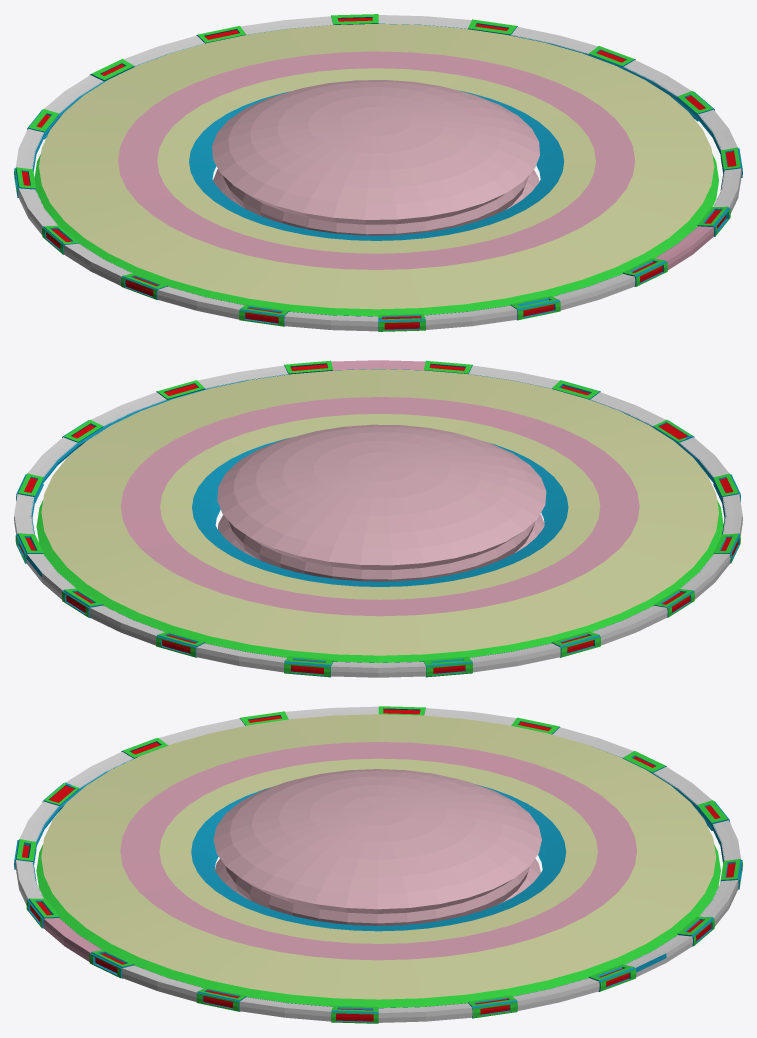
The model's file is ufo 2.dae.
3 renders of one model, top to bottom at view 1: azimuth 30°, elevation 25°; view 2: azimuth 150°, elevation 25°; view 3: azimuth 270°, elevation 25°, orthographic.
Parts seen in each view (by area): view 1: Torus, Sphere; view 2: Torus, Sphere; view 3: Torus, Sphere.
Boxes of the visible parts, x1,y1,x2,y2 form: Torus: (14, 14, 742, 331); Sphere: (212, 80, 539, 235); Torus: (14, 360, 742, 677); Sphere: (217, 424, 546, 581); Torus: (14, 706, 742, 1023); Sphere: (213, 769, 541, 925).
Bounding box in the file's own units: 6.69 × 6.7 × 0.9804.
